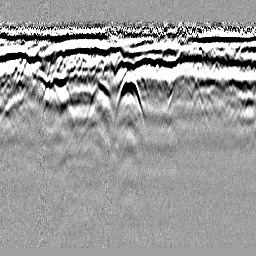cavity: (113, 70, 146, 127)
